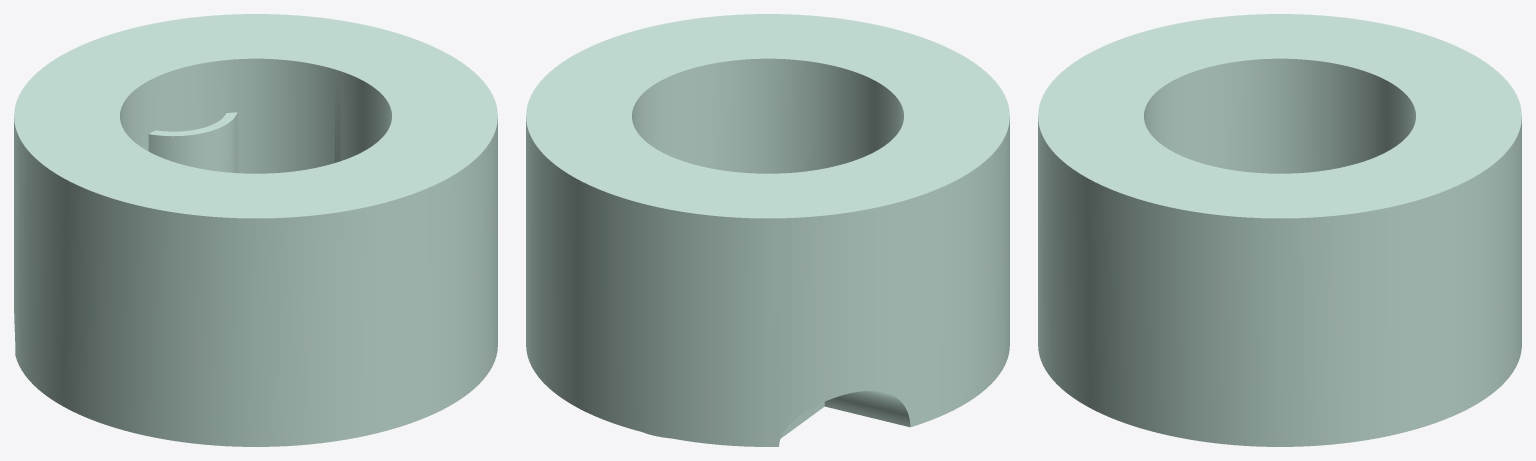
3 views of the same model, side by side, from view 1: azimuth 30°, elevation 25°; view 2: azimuth 150°, elevation 25°; view 3: azimuth 270°, elevation 25° (orthographic).
Parts seen in each view (by area): view 1: Renderer Node; view 2: Renderer Node; view 3: Renderer Node.
Boxes of the visible parts, x1,y1,x2,y2 form: Renderer Node: [14, 14, 497, 446]; Renderer Node: [526, 14, 1009, 446]; Renderer Node: [1038, 14, 1521, 446].
Bounding box in the file's own units: 1.48 × 0.7969 × 1.48.
